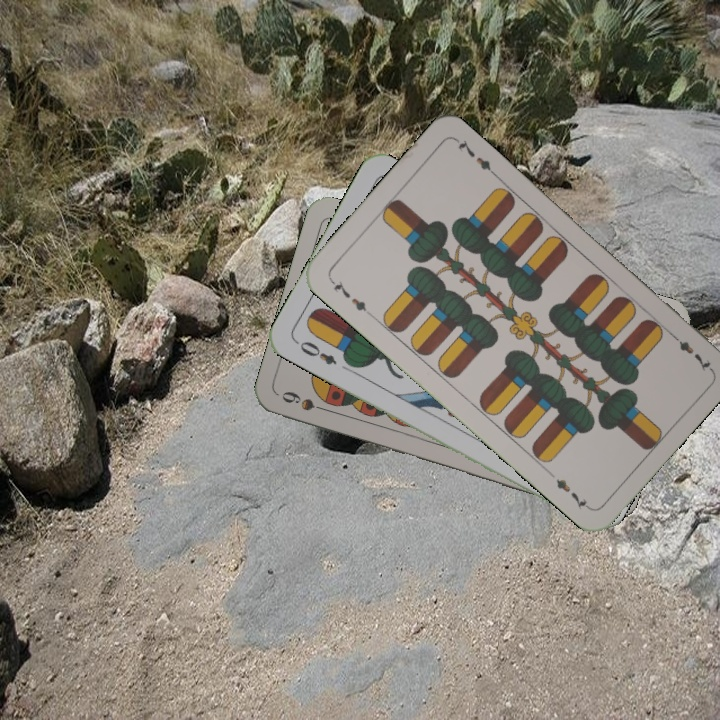E7: (666, 328, 714, 374), (326, 275, 370, 314)
EO: (291, 336, 340, 368)
S9: (278, 387, 335, 416)
